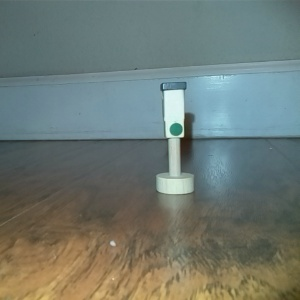traffic light green: (152, 78, 197, 197)
